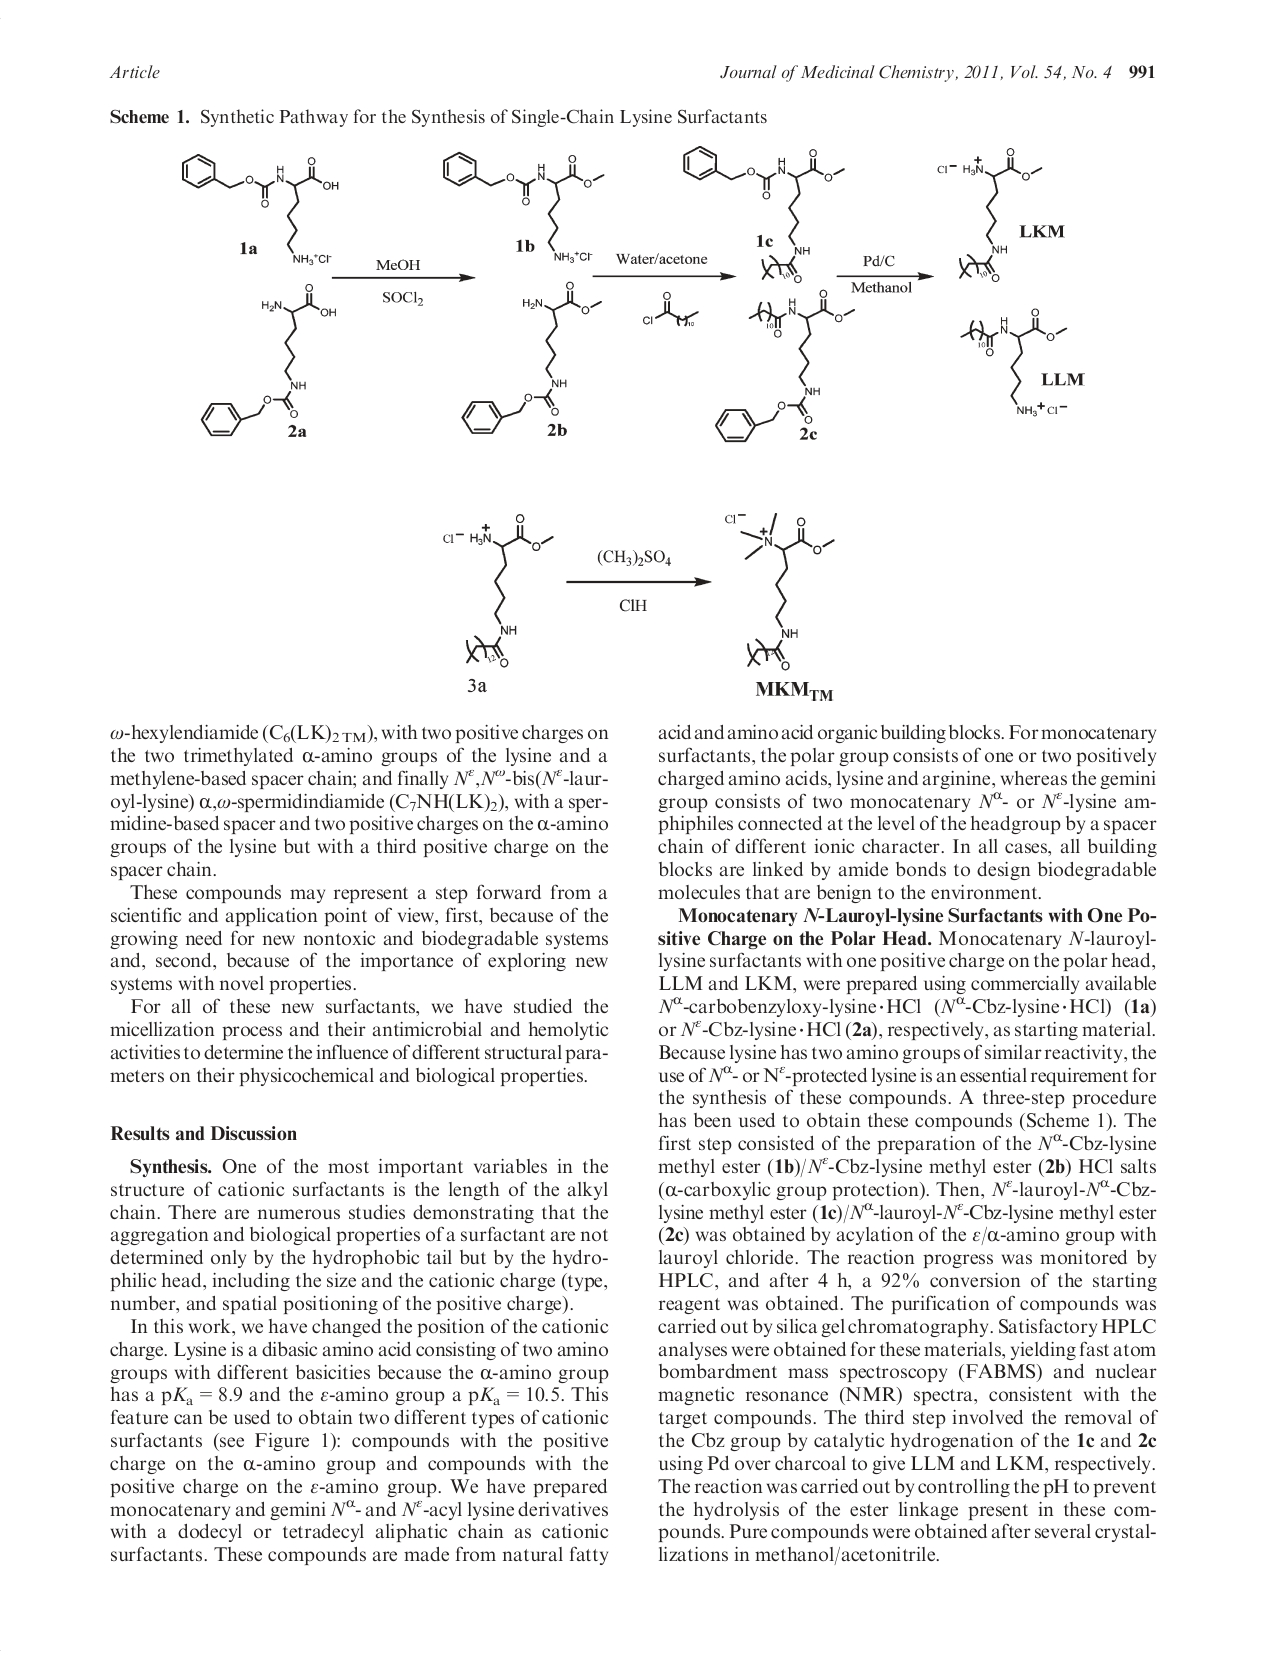exist_molecular: (678, 140, 846, 287), (460, 277, 605, 438), (195, 278, 336, 438), (714, 287, 856, 444), (176, 145, 342, 269), (719, 503, 839, 672), (438, 146, 604, 265), (438, 509, 555, 670), (930, 140, 1047, 283), (956, 301, 1075, 422), (629, 283, 702, 332)
